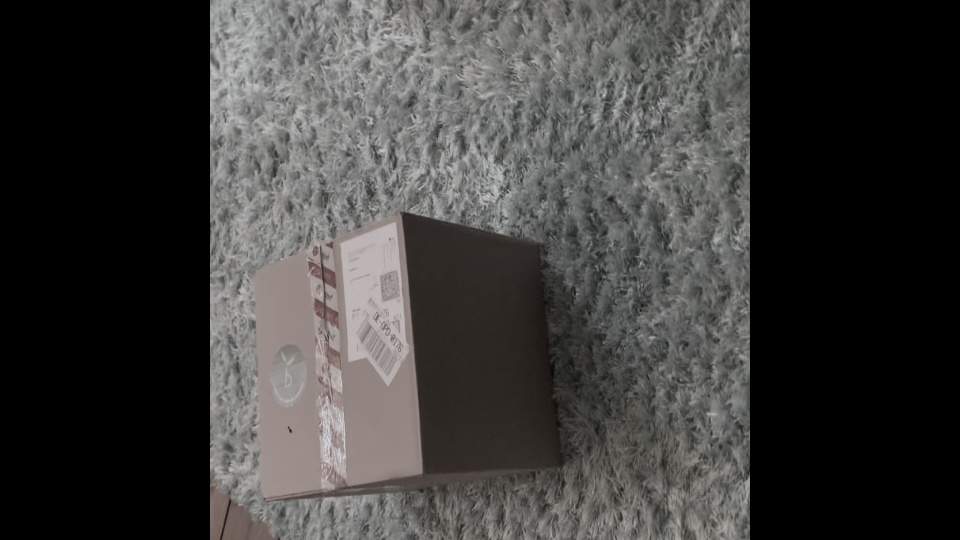good-parcel: (223, 208, 581, 515)
